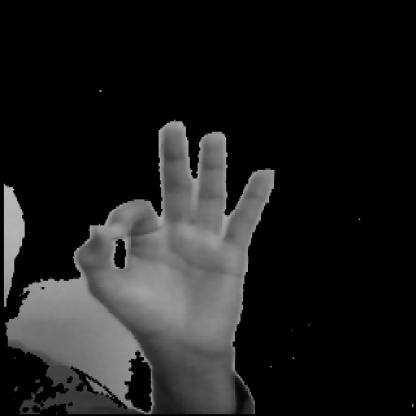ok: (56, 104, 296, 369)
